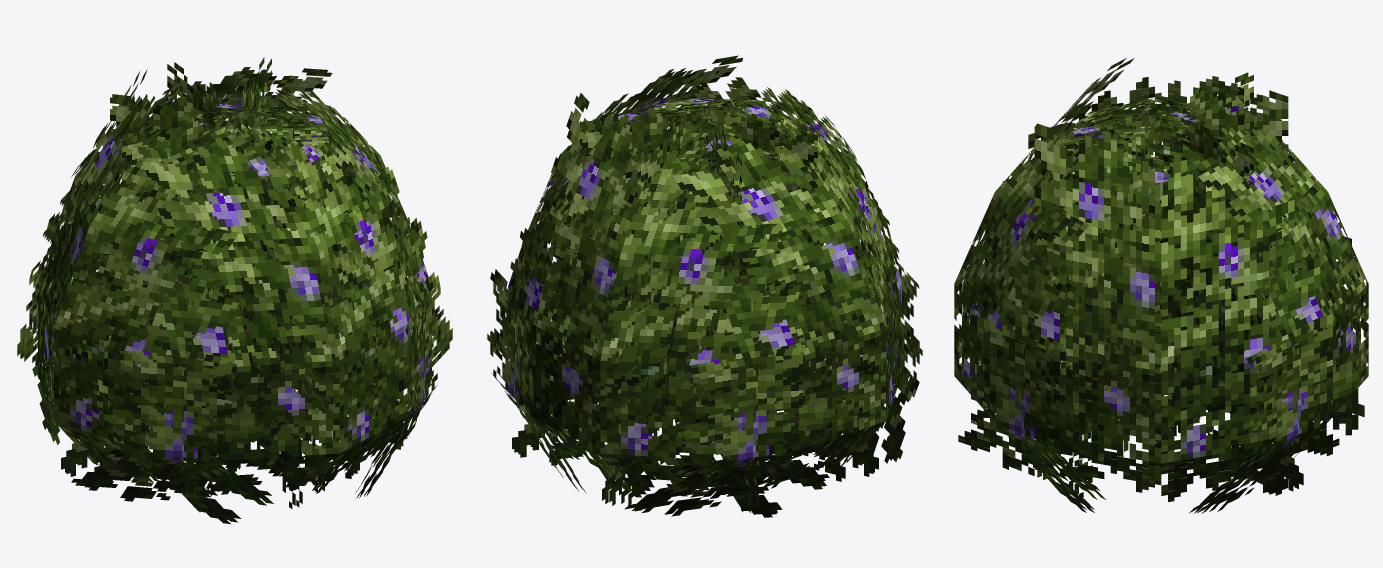
File: bush03_spring4.glb
3 renders of one model, left to right at view 1: azimuth 30°, elevation 25°; view 2: azimuth 150°, elevation 25°; view 3: azimuth 270°, elevation 25°, orthographic.
Visible parts, largest first — view 1: bush03; view 2: bush03; view 3: bush03.
Boxes of the visible parts, <box> form: bush03: <box>17,57,452,524</box>; bush03: <box>487,55,922,517</box>; bush03: <box>954,58,1368,513</box>.
Size of the model in its own units: 1.53 by 1.5 by 1.53.
1 material, 1 textured.
